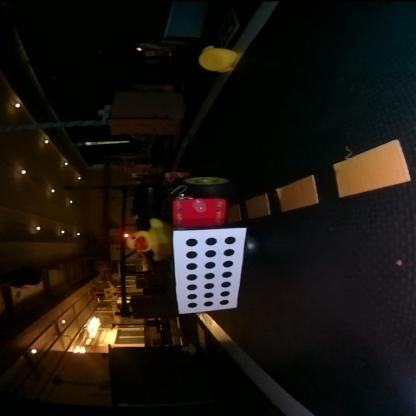Duckie: (127, 219, 167, 261), (197, 45, 235, 73)
Duckiebot: (136, 171, 247, 315)
